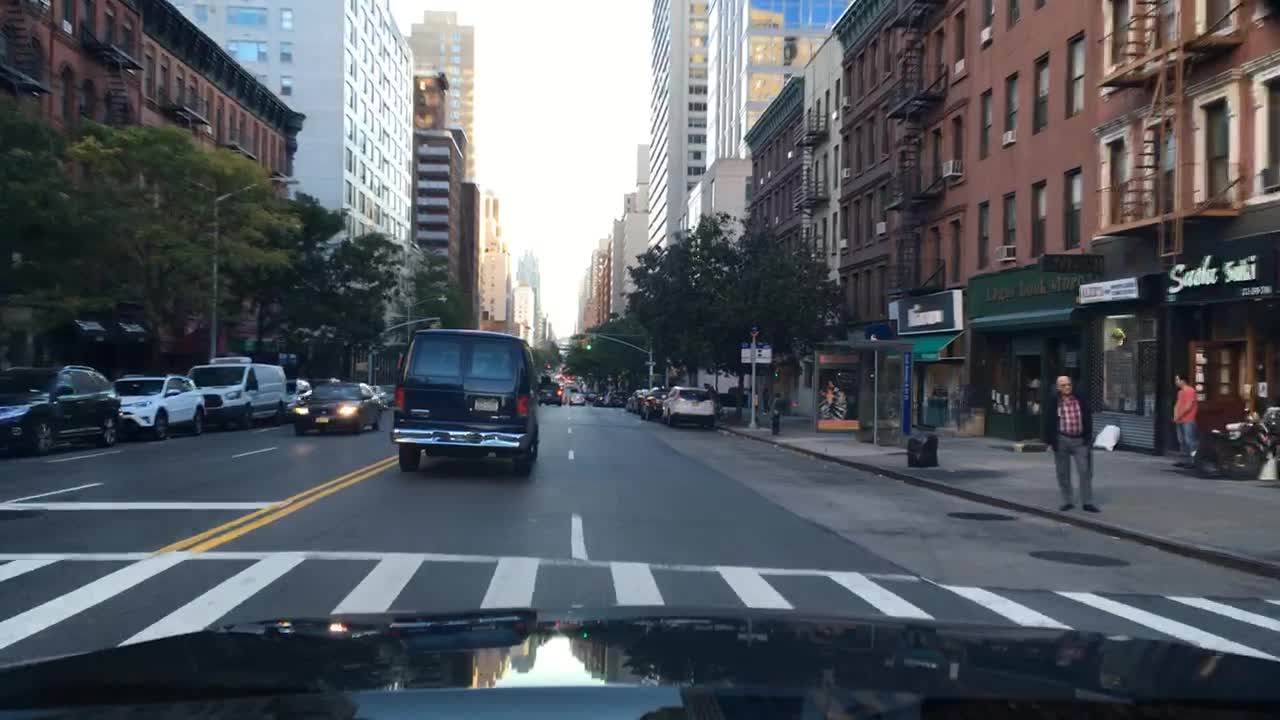car: (388, 325, 536, 475), (0, 363, 121, 454), (186, 354, 285, 431), (107, 374, 205, 438), (293, 377, 378, 440), (661, 385, 721, 429), (644, 386, 672, 419), (283, 379, 313, 408), (537, 383, 562, 407), (365, 382, 390, 404), (629, 388, 645, 411), (565, 390, 589, 405), (591, 390, 604, 407), (537, 374, 550, 383), (585, 390, 596, 400), (565, 380, 577, 387)
motor: (1207, 413, 1279, 481)
person: (1037, 372, 1100, 515), (1168, 367, 1197, 479), (769, 389, 784, 440), (761, 389, 771, 412), (707, 385, 716, 397)
traffic light: (585, 337, 596, 352), (577, 337, 586, 352)
traffic sign: (739, 339, 772, 365), (278, 352, 298, 366), (747, 321, 759, 338), (645, 358, 657, 367)
